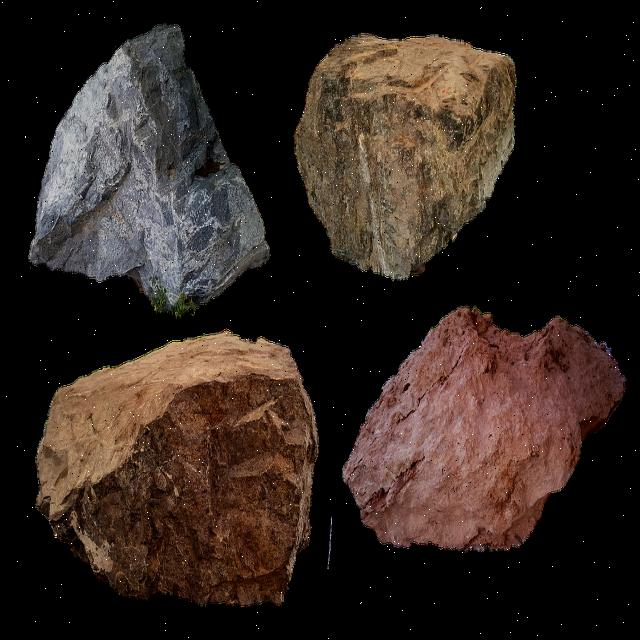Igneous: (30, 338, 320, 622), (25, 14, 277, 318), (339, 310, 628, 574), (289, 22, 525, 290)
